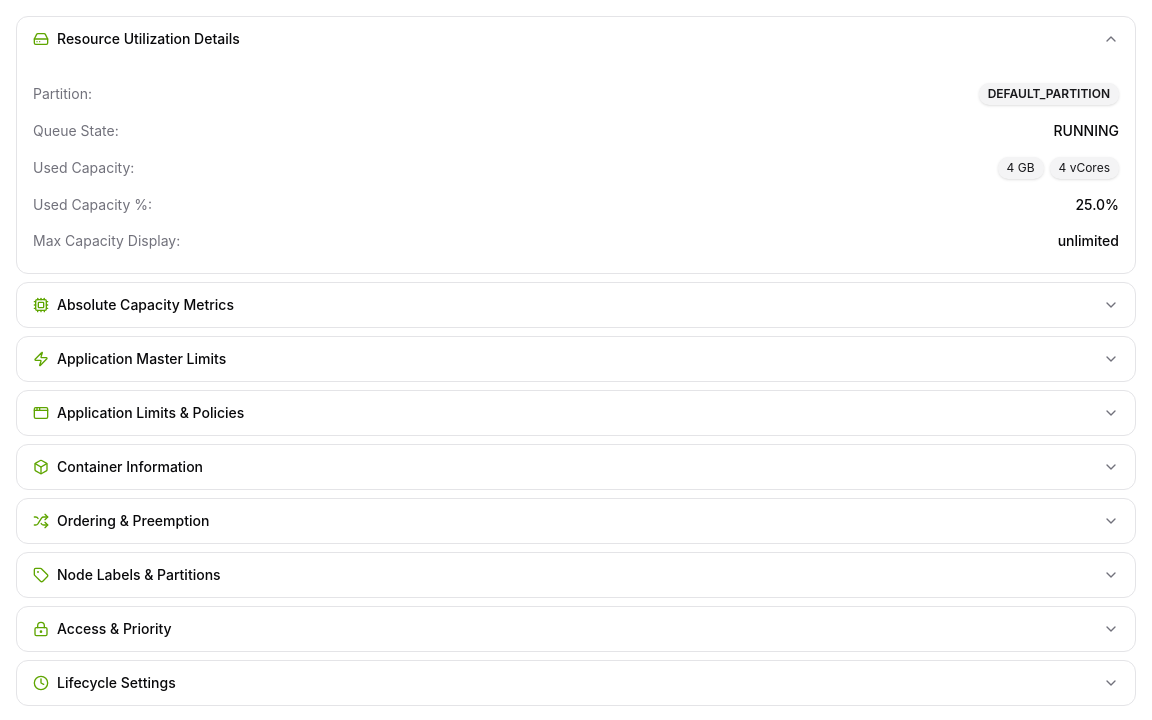
Test: QueueInfoTab › Node Labels & Partitions section › should display accessible node labels
What coordinates should you click on to do the following:
click the button "Node Labels & Partitions"
I would click on:
 (139, 574)
Its box is x1=17 y1=553 x2=1135 y2=597.
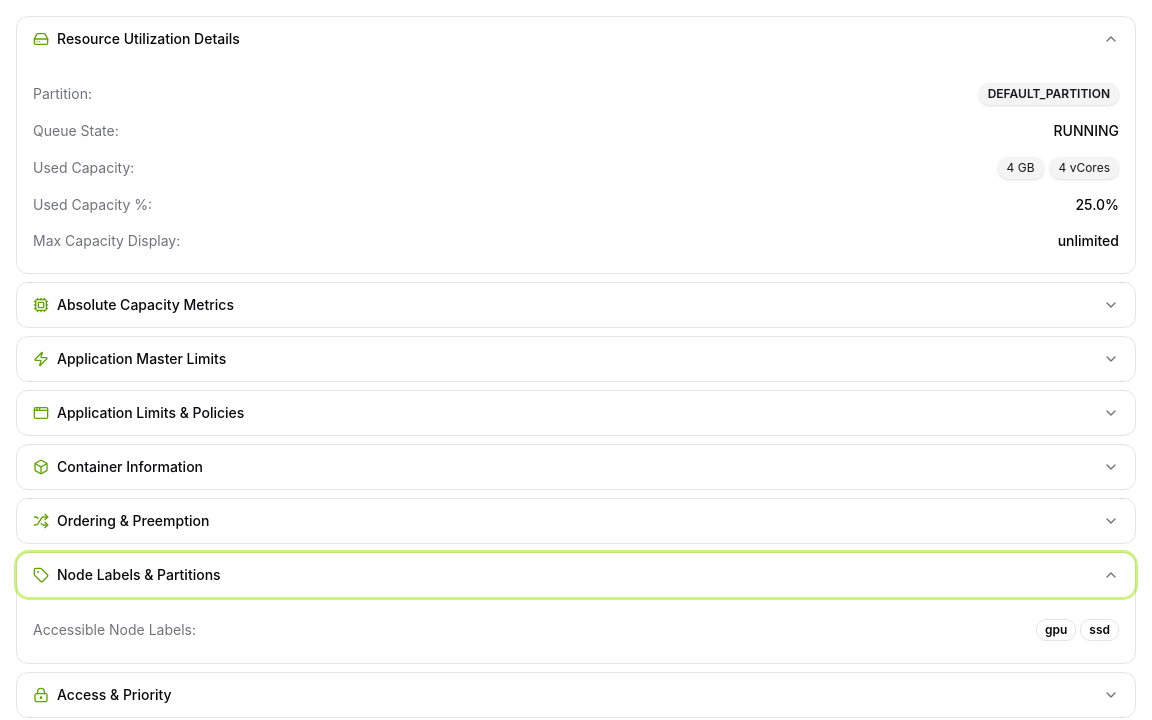
Expected: the text "gpu" is shown, x1=1036 y1=619 x2=1076 y2=641
Expected: the text "ssd" is shown, x1=1080 y1=619 x2=1119 y2=641
